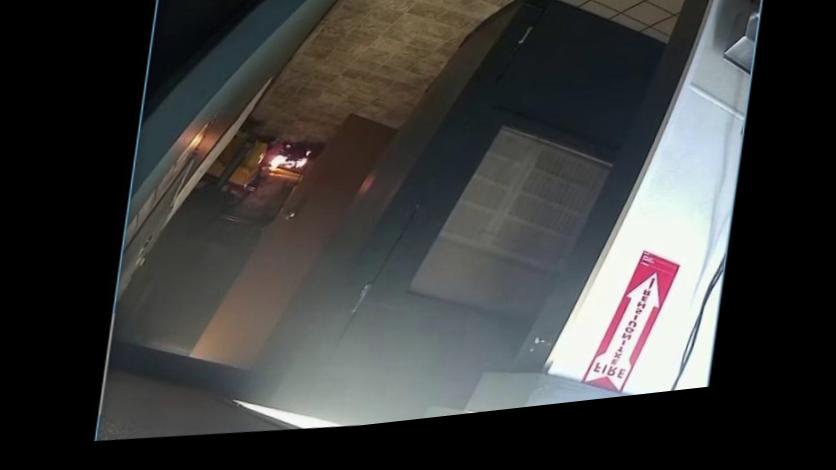fire: (240, 124, 329, 189)
